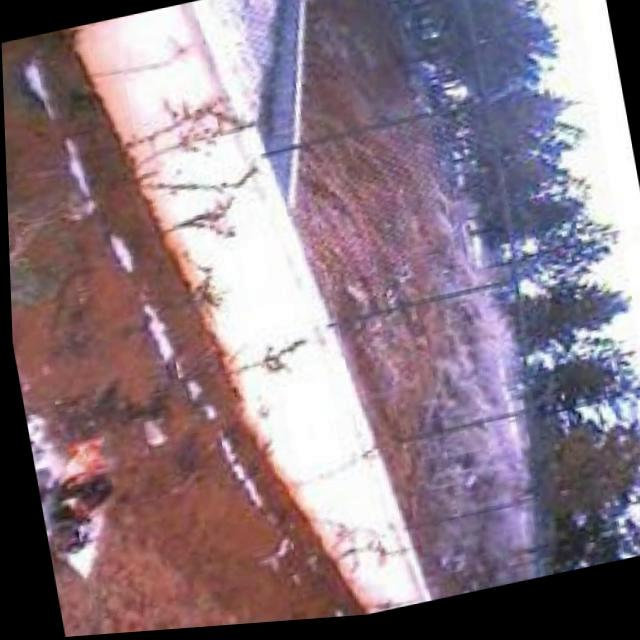fire: (27, 428, 131, 556)
